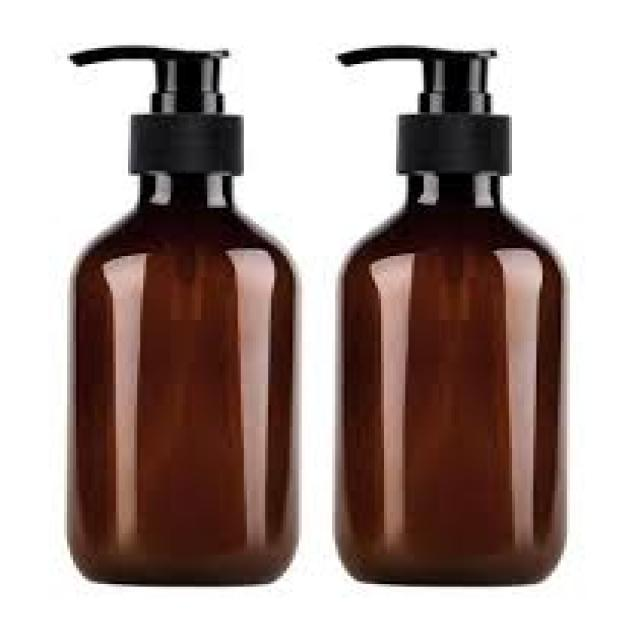liquid soap: (56, 41, 308, 592), (331, 35, 576, 593)
